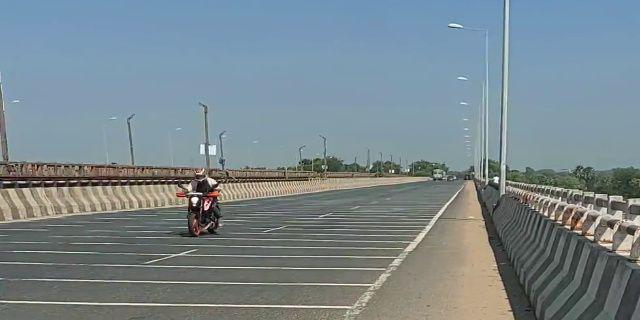Motorbike: (173, 167, 225, 242)
